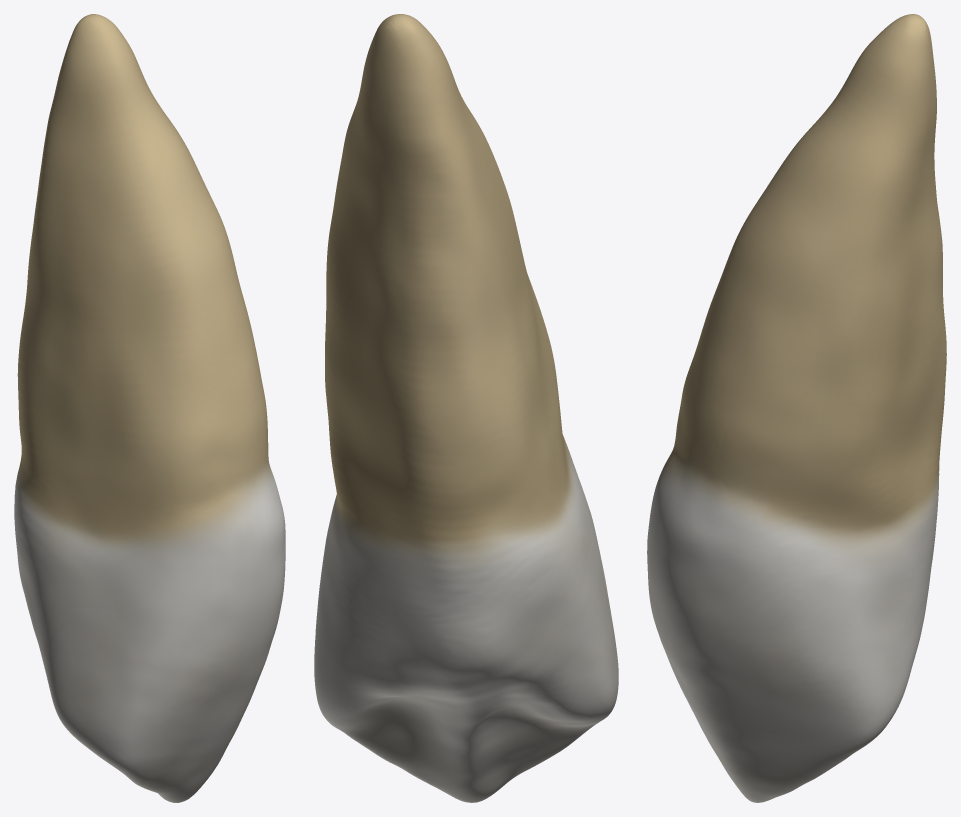
File: maxillary_canine.glb
3 renders of one model, left to right at view 1: azimuth 30°, elevation 25°; view 2: azimuth 150°, elevation 25°; view 3: azimuth 270°, elevation 25°, orthographic. The views are drawn at different scales.
Parts seen in each view (by area): view 1: Object_2; view 2: Object_2; view 3: Object_2.
Boxes of the visible parts, left/top/right/bottom form: Object_2: left=14, top=14, right=285, bottom=802; Object_2: left=314, top=14, right=618, bottom=802; Object_2: left=647, top=14, right=946, bottom=802.
Bounding box in the file's own units: 0.2799 × 0.9093 × 0.317.
1 material, 1 textured.
